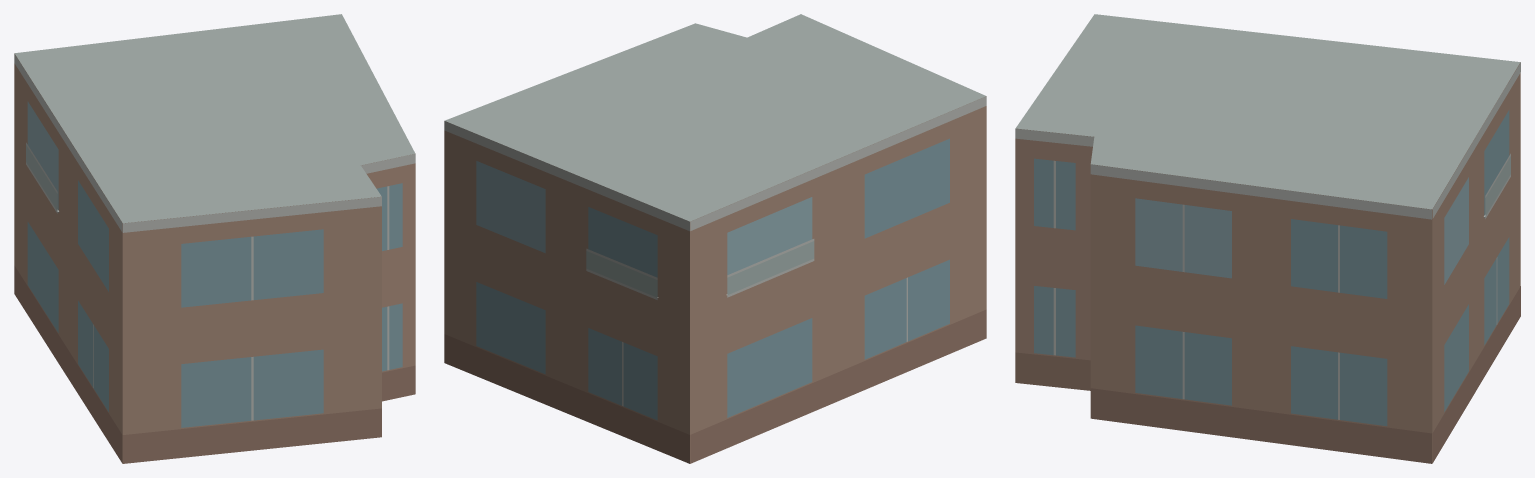
The model's file is survey-upis-32668366.glb.
3 renders of one model, left to right at view 1: azimuth 30°, elevation 25°; view 2: azimuth 150°, elevation 25°; view 3: azimuth 270°, elevation 25°, orthographic. The views are drawn at different scales.
Visible parts, largest first — view 1: survey-upis-32668366.tmp; view 2: survey-upis-32668366.tmp; view 3: survey-upis-32668366.tmp.
Boxes of the visible parts, x1=… form: survey-upis-32668366.tmp: x1=14, y1=14, x2=415, y2=463; survey-upis-32668366.tmp: x1=444, y1=14, x2=986, y2=463; survey-upis-32668366.tmp: x1=1015, y1=14, x2=1520, y2=463.
Size of the model in its own units: 10.06 by 6.1 by 10.99.
